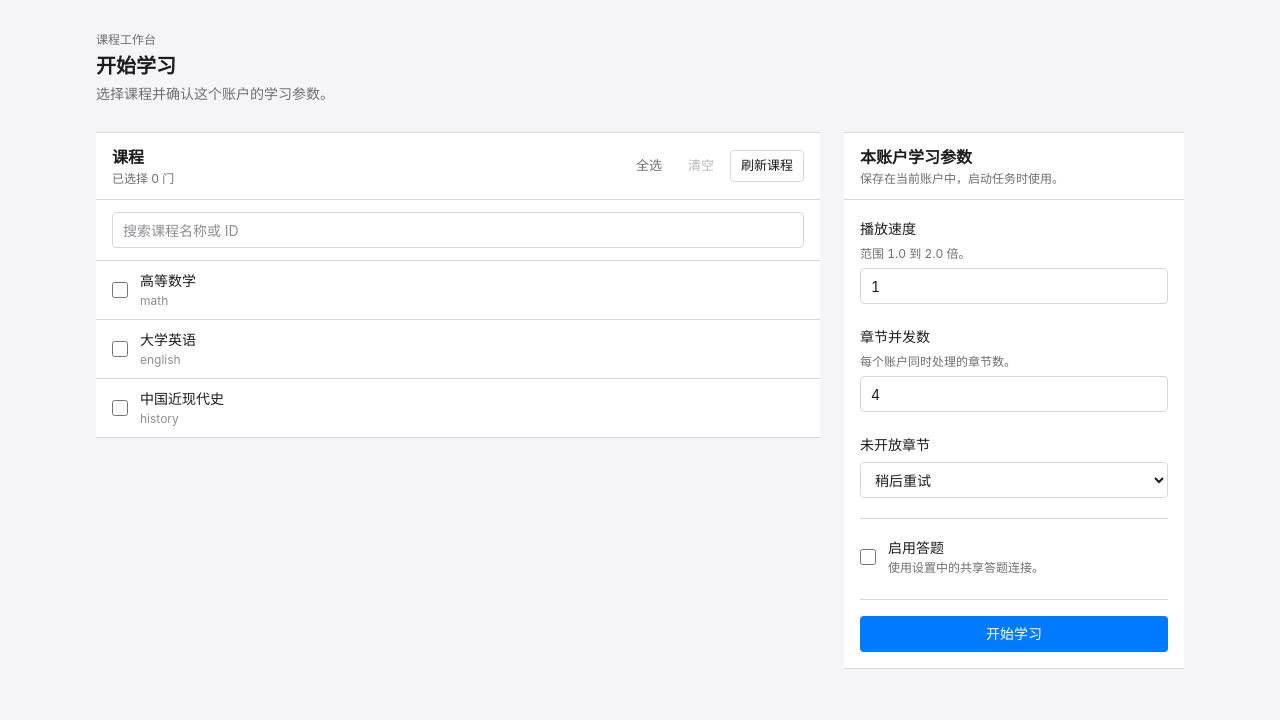
Scenario: keeps a selection when starting fails for a validation error
Click the button "开始学习". click: (1014, 634)
box: [860,616,1168,652]
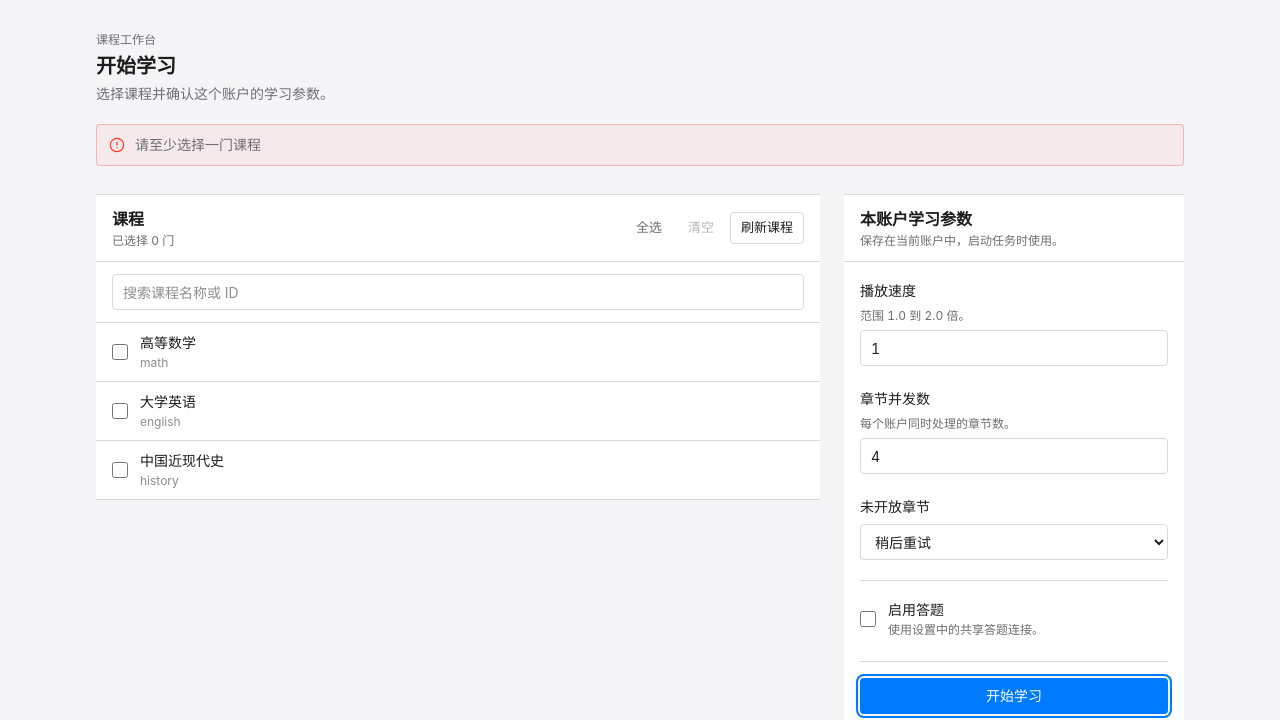
Expected: the text "请至少选择一门课程" is shown, [135,136,261,153]
